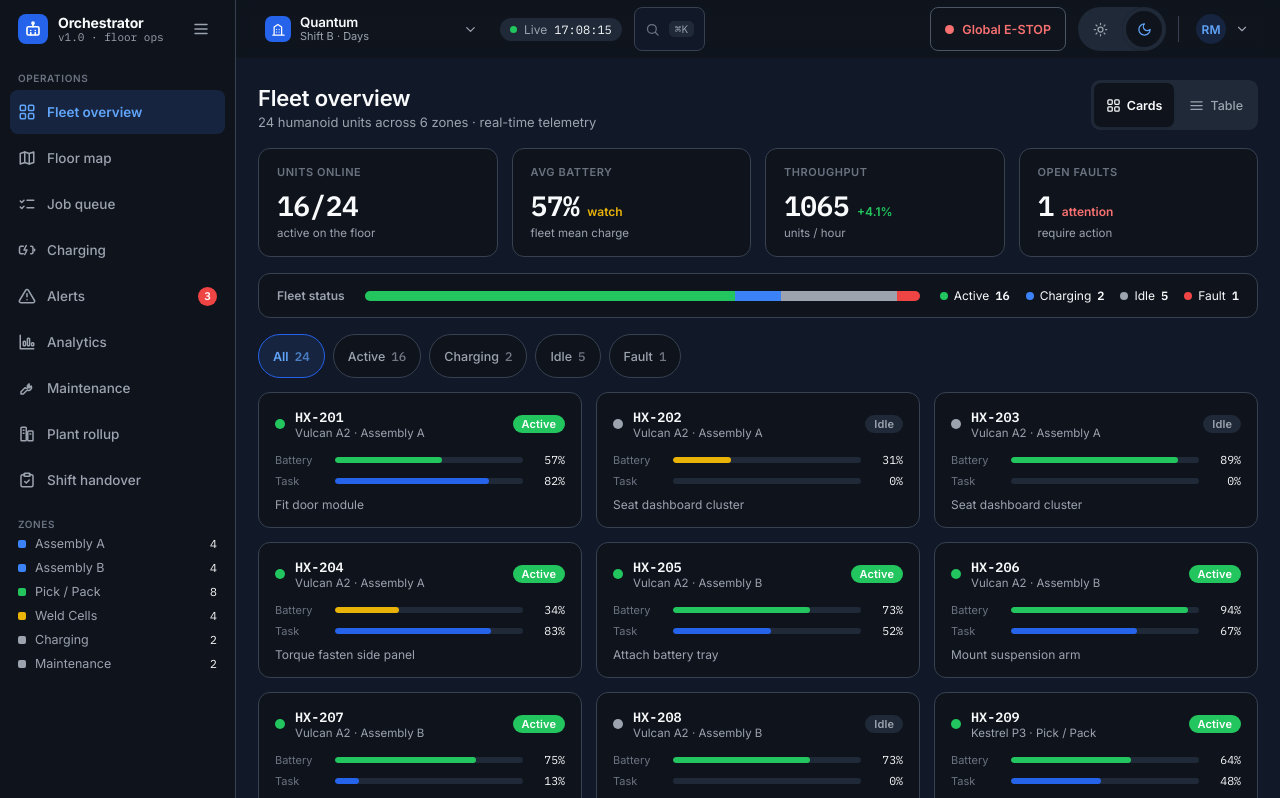
collapsible sidebar › still navigates while collapsed
Click the button named "Main navigation".
click(201, 29)  # box [179,7,223,51]
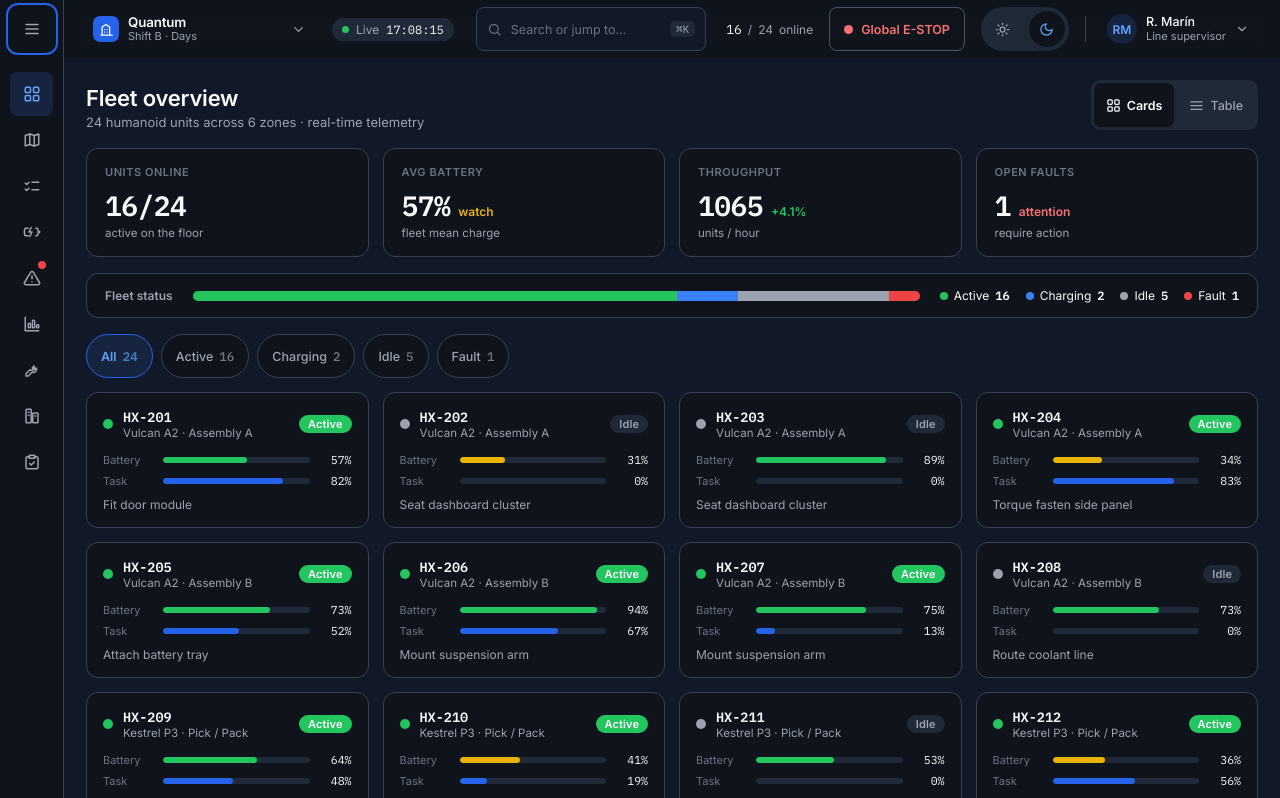
Click the button named "Analytics".
click(32, 324)  # box [10,302,53,346]
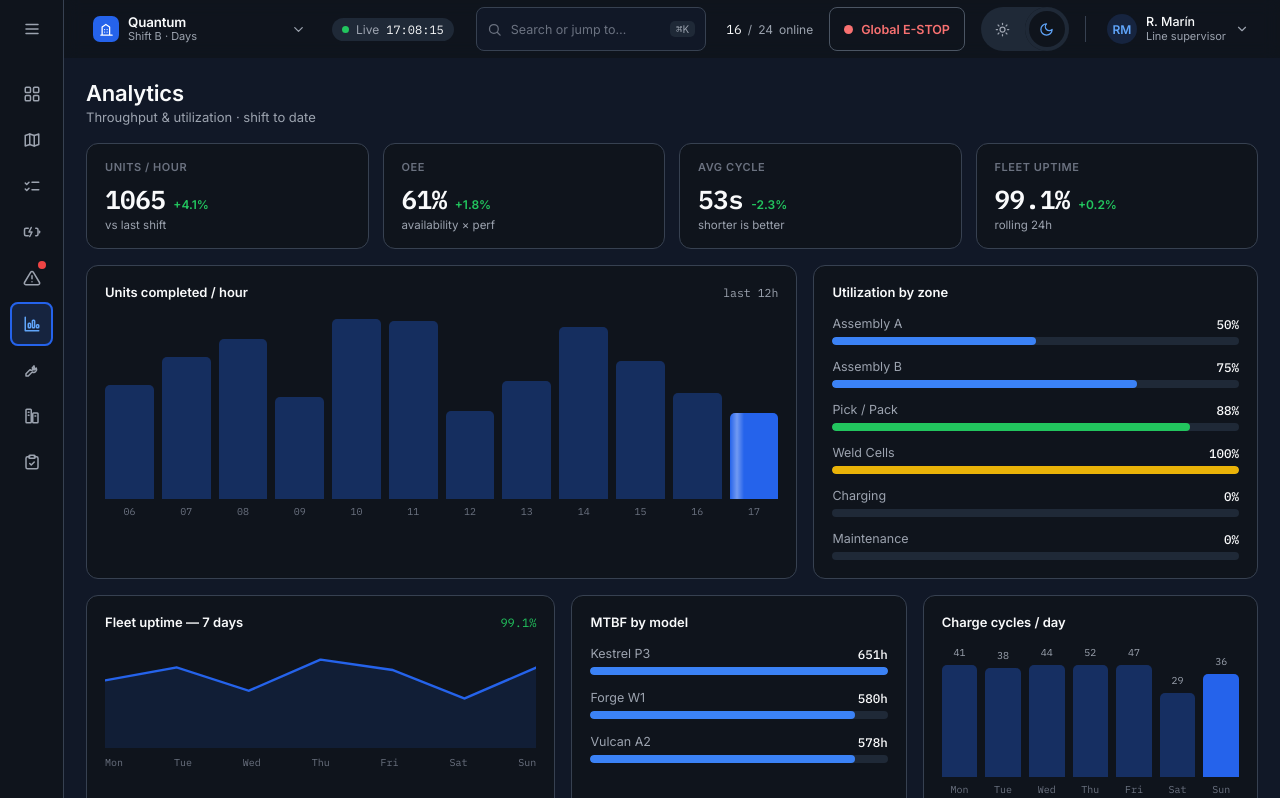
Check: the heading "Analytics" is shown, box [86,80,184,106]
